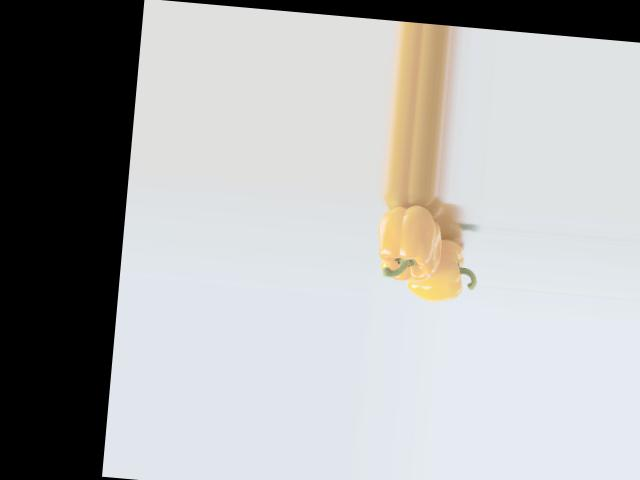bell_pepper: (404, 225, 480, 305)
